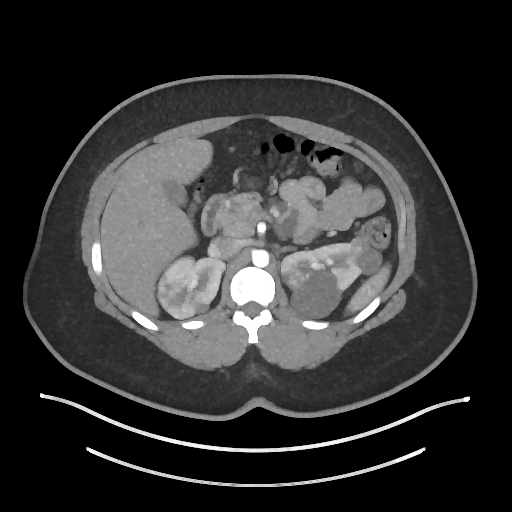Lesion: (343, 232, 374, 258)
